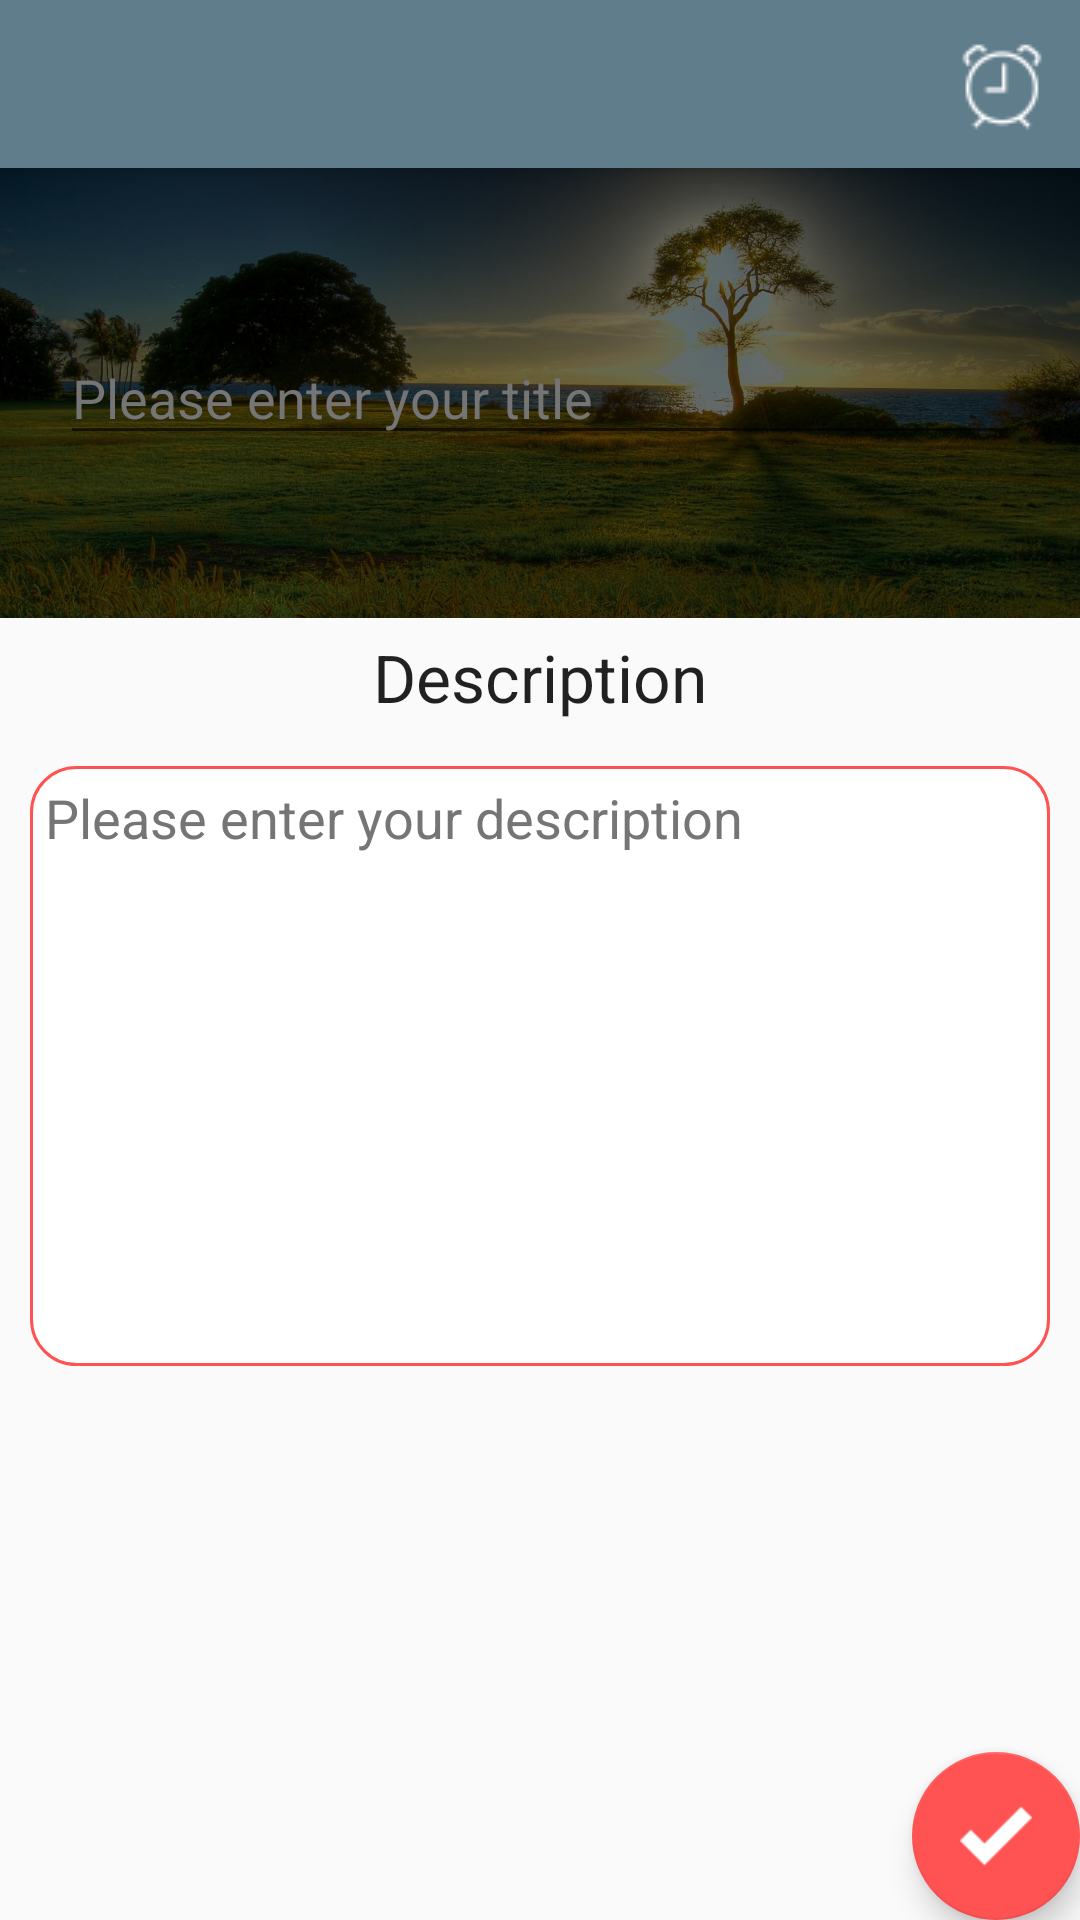

Where to tap for icons on this 1080x1920 app screen, as point (x, y):
remainder: point (1002, 86)
tick mark: point (996, 1836)
